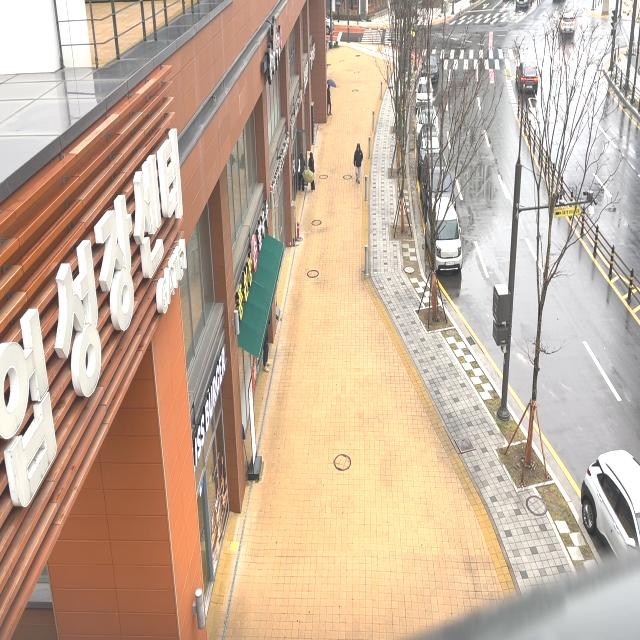Car: (580, 447, 640, 562), (422, 194, 467, 276), (419, 155, 465, 210), (517, 46, 541, 103), (416, 124, 444, 162), (554, 7, 577, 40), (422, 46, 446, 76), (416, 104, 442, 131), (414, 77, 436, 106)
